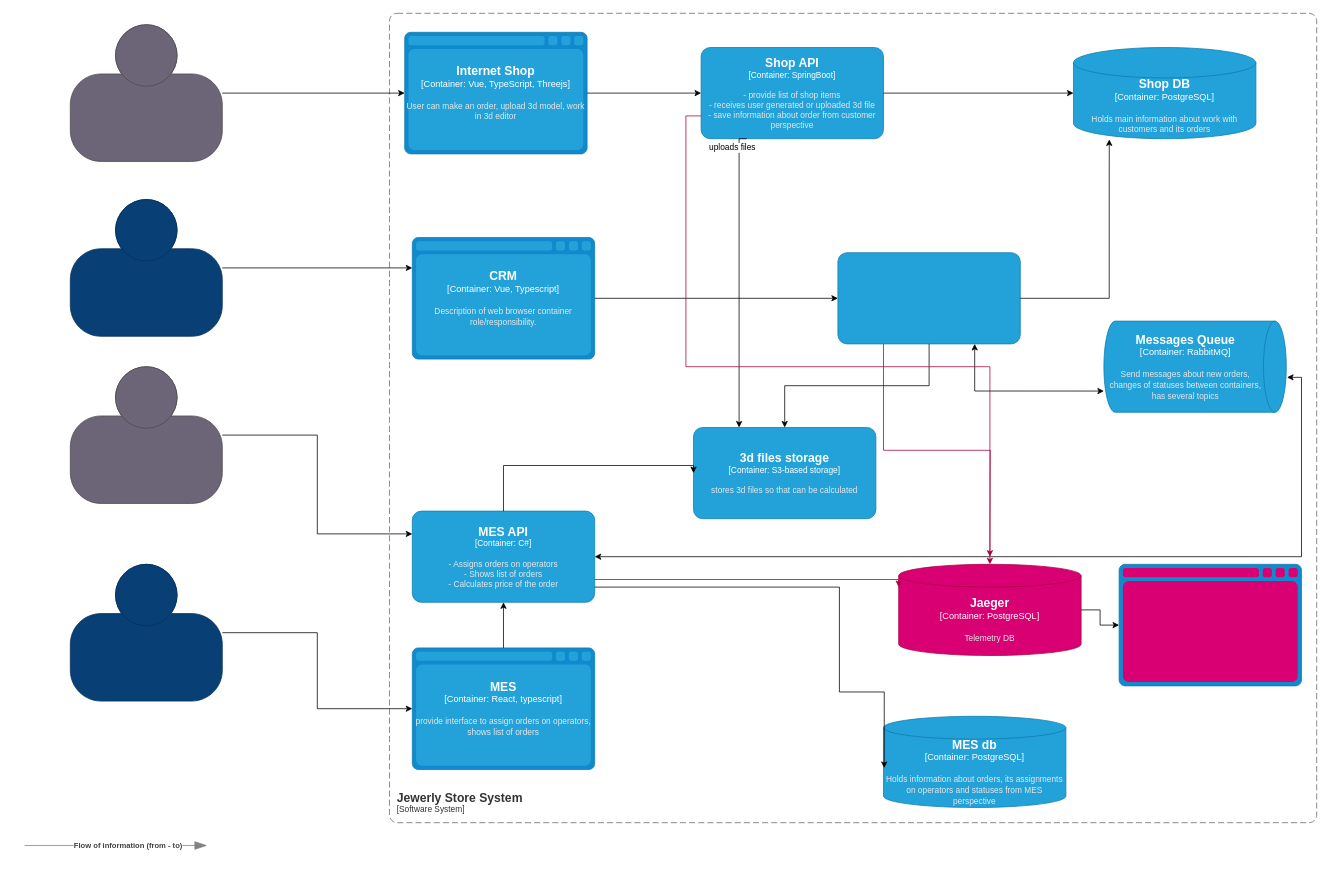
Image size: 1330x871. Some labels were removed from this diagram. The shapes that lost their labels are listed below. From the top down, each one's centre as x and y in pixels, then its label:
the point at 146,93: Customer [Person] Description of external person.
the point at 146,267: Seller [Person] Operates with order, confirms manufacturing for the user
the point at 928,298: CRM API [Container: SpringBoot] Description of container role/responsibility.
the point at 146,435: API user [Person] Description of external person.
the point at 146,632: Operator [Person] Takes order in work, manufactures jewerly
the point at 1210,625: Jaeger UI [Container: Jaeger] Request View
